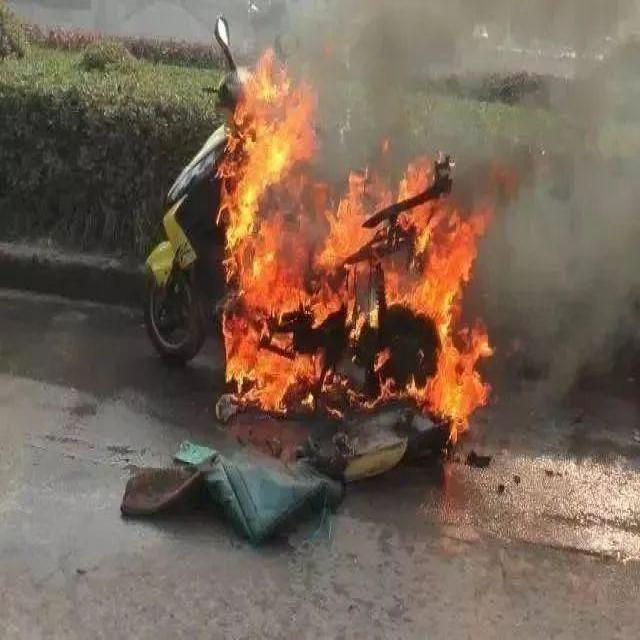Fire: (220, 52, 493, 432)
